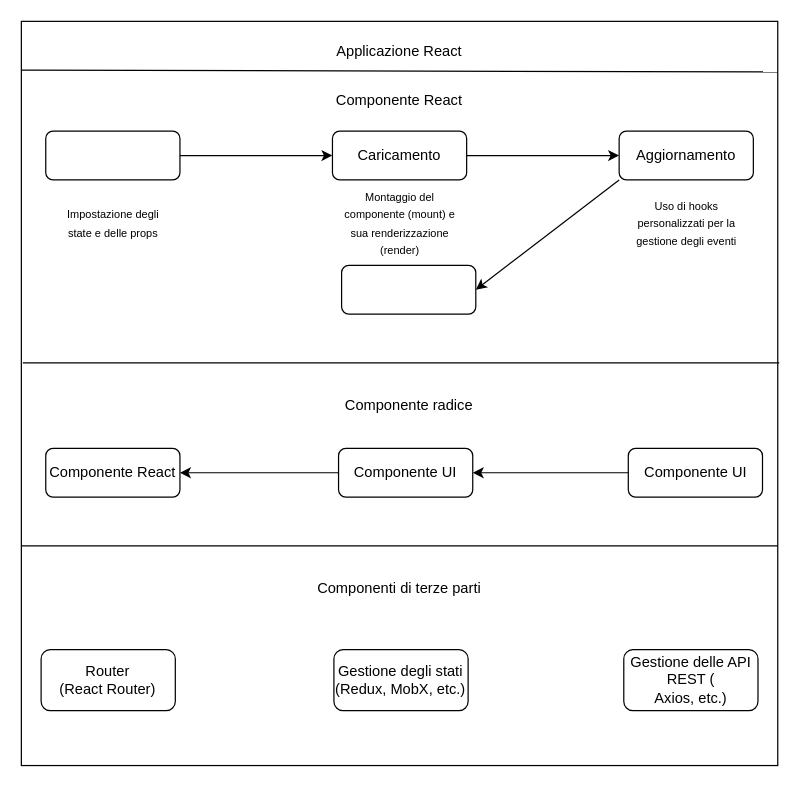
The diagram is 803 pixels wide and 787 high, and some of its shapes have lost their labels. Here are the shapes that lost their labels. From the top down, the centre of each, then its label:
point 112,155: Inizializzazione
point 408,289: Esportazione
